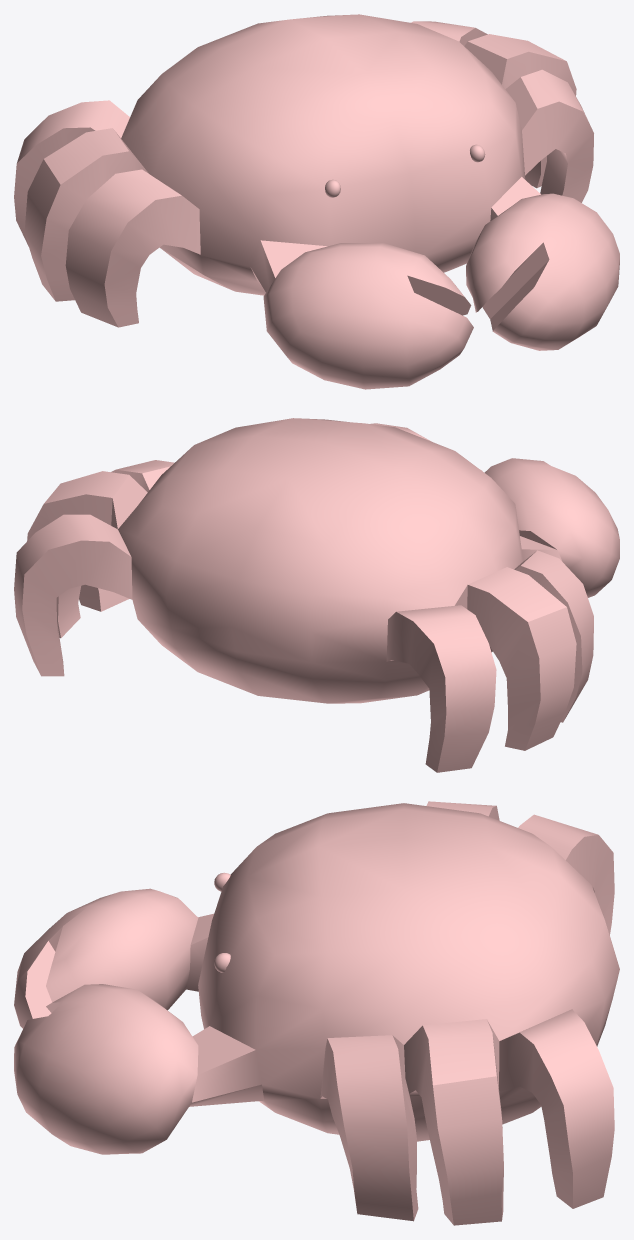
The model's file is NST_CrabPlush 1.fbx.
3 views of the same model, one above another, from view 1: azimuth 30°, elevation 25°; view 2: azimuth 150°, elevation 25°; view 3: azimuth 270°, elevation 25° (orthographic). The views are drawn at different scales.
Parts seen in each view (by area): view 1: NST_Crab; view 2: NST_Crab; view 3: NST_Crab.
Part boxes in pixels (x1,y1,x2,y2): NST_Crab: (14, 14, 619, 389); NST_Crab: (14, 418, 619, 772); NST_Crab: (14, 801, 619, 1225).
Bounding box in the file's own units: 40.98 × 16.45 × 35.27.
